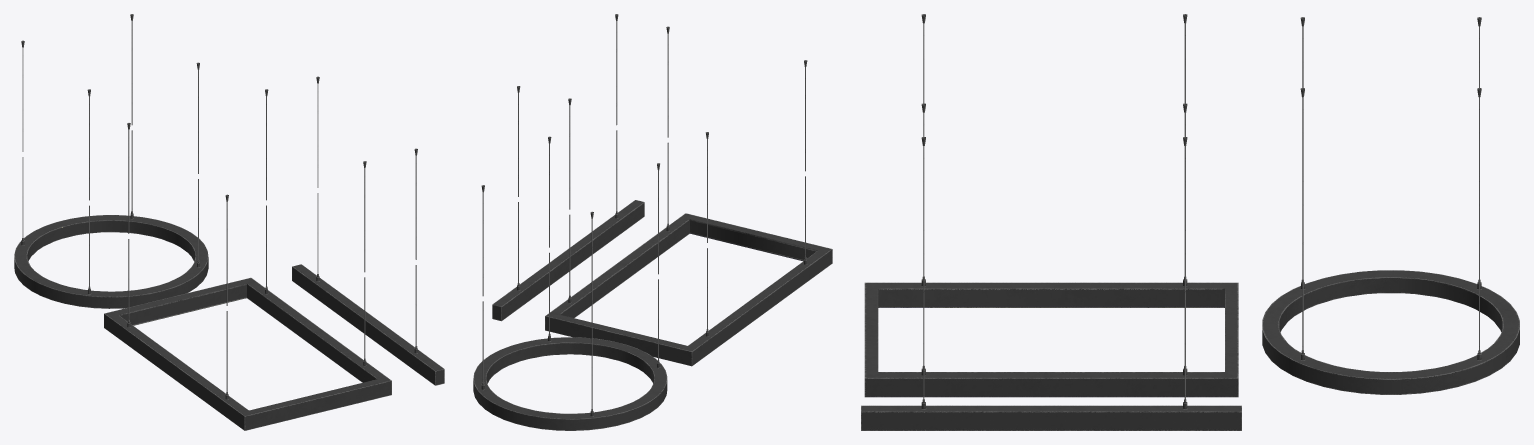
File: ceiling_lamps.glb
3 renders of one model, left to right at view 1: azimuth 30°, elevation 25°; view 2: azimuth 150°, elevation 25°; view 3: azimuth 270°, elevation 25°, orthographic. The views are drawn at different scales.
Visible parts, largest first — view 1: squarelamp, cirlcelamp, linelamp, squarelight, circlelight, linelight; view 2: squarelamp, cirlcelamp, linelamp, squarelight, circlelight, linelight; view 3: squarelamp, cirlcelamp, linelamp, circlelight, linelight.
Part boxes in pixels (bbox=[...]): squarelamp: bbox=[104, 205, 391, 430]; cirlcelamp: bbox=[14, 130, 208, 308]; linelamp: bbox=[292, 193, 444, 385]; squarelight: bbox=[127, 89, 366, 305]; circlelight: bbox=[21, 14, 199, 200]; linelight: bbox=[316, 76, 417, 259]; squarelamp: bbox=[545, 142, 832, 366]; cirlcelamp: bbox=[473, 252, 667, 430]; linelamp: bbox=[492, 130, 644, 321]; squarelight: bbox=[568, 26, 807, 242]; circlelight: bbox=[481, 136, 659, 322]; linelight: bbox=[517, 14, 618, 196]; squarelamp: bbox=[864, 276, 1238, 397]; cirlcelamp: bbox=[1262, 235, 1519, 394]; linelamp: bbox=[861, 291, 1241, 430]; circlelight: bbox=[1300, 17, 1481, 235]; linelight: bbox=[921, 136, 1187, 284].
Bounding box in the file's own units: 2.59 × 2.48 × 5.11.
Materials: 1 (1 with a texture image).
